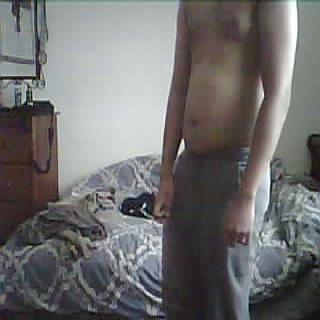Gray Sweatpants: (163, 143, 266, 320)
